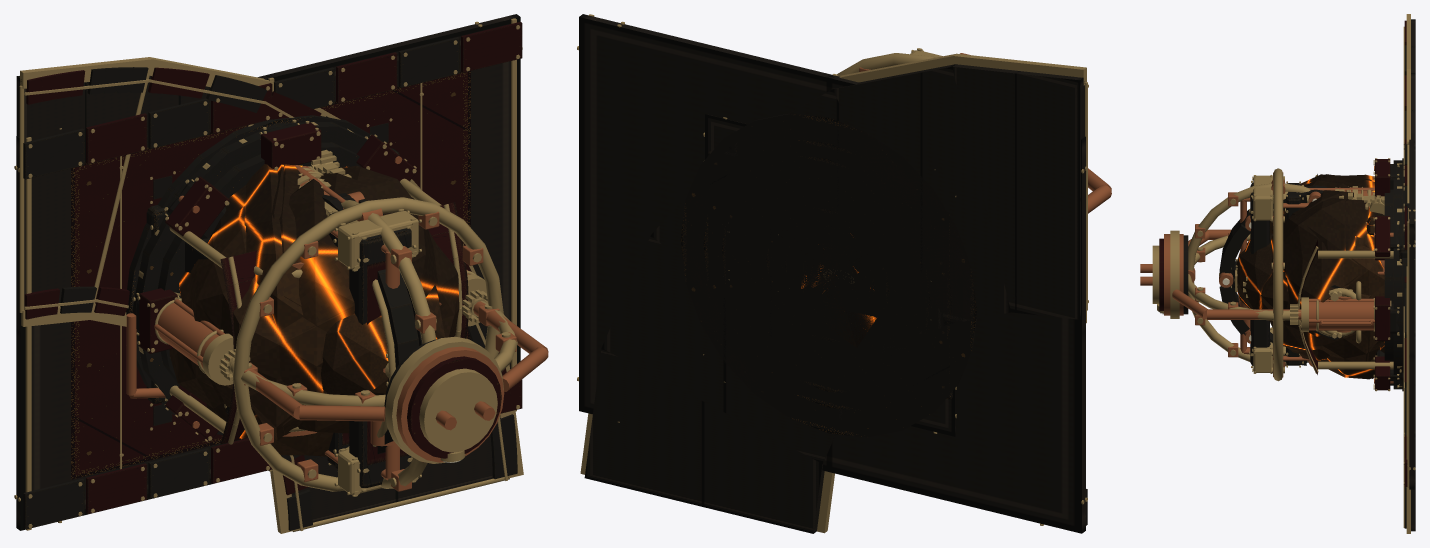
The model's file is world-high.glb.
3 views of the same model, side by side, from view 1: azimuth 30°, elevation 25°; view 2: azimuth 150°, elevation 25°; view 3: azimuth 270°, elevation 25° (orthographic). The views are drawn at different scales.
Visible parts, largest first — view 1: track-straight-root / Burgundy enamel, track-straight-root / Riveted iron road, track-bend-root / Riveted iron road, track-straight-root / Riveted iron, reactor-root / Riveted iron, ore-small-root / Veined natural slate, reactor-root / Machined brass, reactor-root / Burgundy enamel, reactor-root / Copper feed lines, track-bend-root / Machined brass, Gimbal bearing.002 / Machined brass, ore-captured-root / Veined natural slate (+22 smaller); view 2: track-bend-root / Riveted iron road, track-straight-root / Riveted iron road, deposit-root / Riveted iron, gate-marker-root / Riveted iron, reactor-root / Riveted iron, pit-station-root / Riveted iron, drop-capsule-root / Riveted iron, drop-core-root / Riveted iron, track-bend-root / Machined brass, drop-crystal-root / Riveted iron, gantry-root / Riveted iron, floor-tile-root / Riveted iron road (+6 smaller); view 3: ore-medium-root / Veined natural slate, reactor-root / Copper feed lines, reactor-root / Riveted iron, rock-obstacle-root / Veined natural slate, reactor-root / Burgundy enamel, reactor-root / Machined brass, Gimbal bearing.002 / Machined brass, track-bend-root / Machined brass, track-straight-root / Riveted iron road, gantry-root / Machined brass, Suspended mineral core / Amber mineral, Gimbal bearing / Machined brass (+16 smaller).
Part boxes in pixels (x1=…): track-straight-root / Burgundy enamel: x1=71, y1=21, x2=522, y2=514; track-straight-root / Riveted iron road: x1=16, y1=14, x2=520, y2=530; track-bend-root / Riveted iron road: x1=16, y1=76, x2=493, y2=522; track-straight-root / Riveted iron: x1=23, y1=37, x2=459, y2=529; reactor-root / Riveted iron: x1=126, y1=115, x2=459, y2=463; ore-small-root / Veined natural slate: x1=169, y1=179, x2=354, y2=439; reactor-root / Machined brass: x1=132, y1=119, x2=503, y2=463; reactor-root / Burgundy enamel: x1=139, y1=122, x2=501, y2=458; reactor-root / Copper feed lines: x1=126, y1=156, x2=548, y2=462; track-bend-root / Machined brass: x1=19, y1=57, x2=523, y2=533; Gimbal bearing.002 / Machined brass: x1=232, y1=197, x2=503, y2=491; ore-captured-root / Veined natural slate: x1=187, y1=164, x2=391, y2=456; track-bend-root / Riveted iron road: x1=584, y1=64, x2=1084, y2=533; track-straight-root / Riveted iron road: x1=579, y1=14, x2=1085, y2=533; deposit-root / Riveted iron: x1=722, y1=156, x2=930, y2=393; gate-marker-root / Riveted iron: x1=703, y1=139, x2=952, y2=410; reactor-root / Riveted iron: x1=680, y1=113, x2=976, y2=437; pit-station-root / Riveted iron: x1=708, y1=151, x2=952, y2=399; drop-capsule-root / Riveted iron: x1=766, y1=208, x2=888, y2=342; drop-core-root / Riveted iron: x1=767, y1=208, x2=888, y2=339; track-bend-root / Machined brass: x1=580, y1=53, x2=1088, y2=533; drop-crystal-root / Riveted iron: x1=768, y1=210, x2=889, y2=339; gantry-root / Riveted iron: x1=798, y1=141, x2=861, y2=409; floor-tile-root / Riveted iron road: x1=705, y1=114, x2=955, y2=436; ore-medium-root / Veined natural slate: x1=1269, y1=177, x2=1384, y2=379; reactor-root / Copper feed lines: x1=1140, y1=165, x2=1393, y2=383; reactor-root / Riveted iron: x1=1160, y1=158, x2=1415, y2=391; rock-obstacle-root / Veined natural slate: x1=1307, y1=174, x2=1384, y2=378; reactor-root / Burgundy enamel: x1=1159, y1=159, x2=1390, y2=390; reactor-root / Machined brass: x1=1152, y1=158, x2=1402, y2=391; Gimbal bearing.002 / Machined brass: x1=1271, y1=168, x2=1284, y2=381; track-bend-root / Machined brass: x1=1403, y1=14, x2=1410, y2=533; track-straight-root / Riveted iron road: x1=1409, y1=133, x2=1414, y2=489; gantry-root / Machined brass: x1=1243, y1=175, x2=1384, y2=373; Suspended mineral core / Amber mineral: x1=1236, y1=232, x2=1273, y2=321; Gimbal bearing / Machined brass: x1=1188, y1=183, x2=1310, y2=365.
Bounding box in the file's own units: 4 × 4 × 2.8.
Materials: 15 (5 with a texture image).
